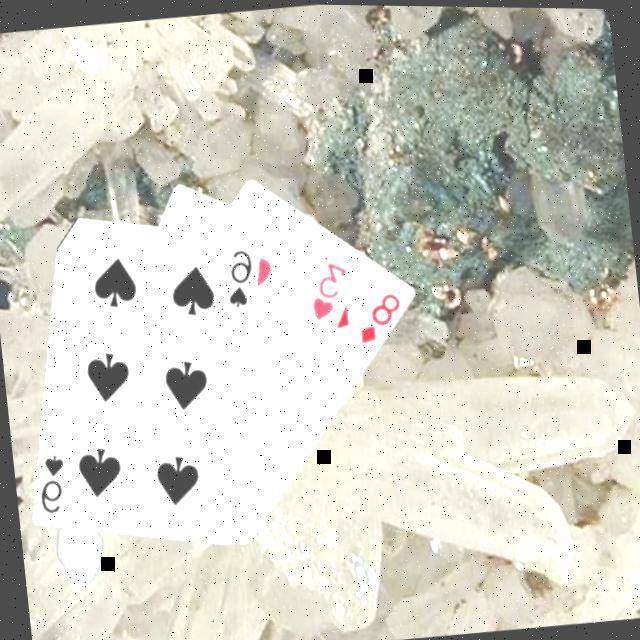3H: (303, 253, 353, 320)
6S: (219, 242, 259, 308), (32, 448, 71, 515)
8D: (352, 284, 407, 344)
